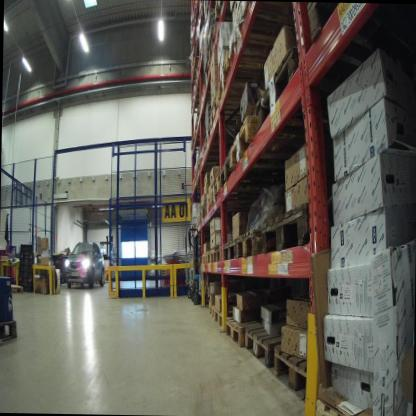forklift: (95, 233, 117, 289)
pallet: (256, 40, 340, 144), (231, 103, 328, 186), (216, 46, 291, 114), (266, 340, 337, 404), (214, 150, 304, 195), (262, 199, 317, 259), (209, 82, 269, 135), (241, 317, 288, 374), (304, 2, 361, 46), (222, 312, 262, 351), (236, 217, 263, 273), (214, 2, 255, 23), (196, 151, 227, 177), (223, 231, 239, 271), (201, 124, 221, 155), (0, 317, 17, 353), (192, 106, 214, 131), (186, 132, 207, 156), (208, 176, 224, 205), (2, 279, 24, 300), (212, 304, 228, 332), (201, 63, 212, 92), (214, 245, 223, 268), (199, 203, 208, 223), (207, 247, 216, 266), (199, 251, 208, 267), (195, 211, 202, 231), (207, 301, 214, 320)
pallet_truck: (190, 228, 207, 307), (180, 230, 188, 296), (187, 227, 193, 305)
